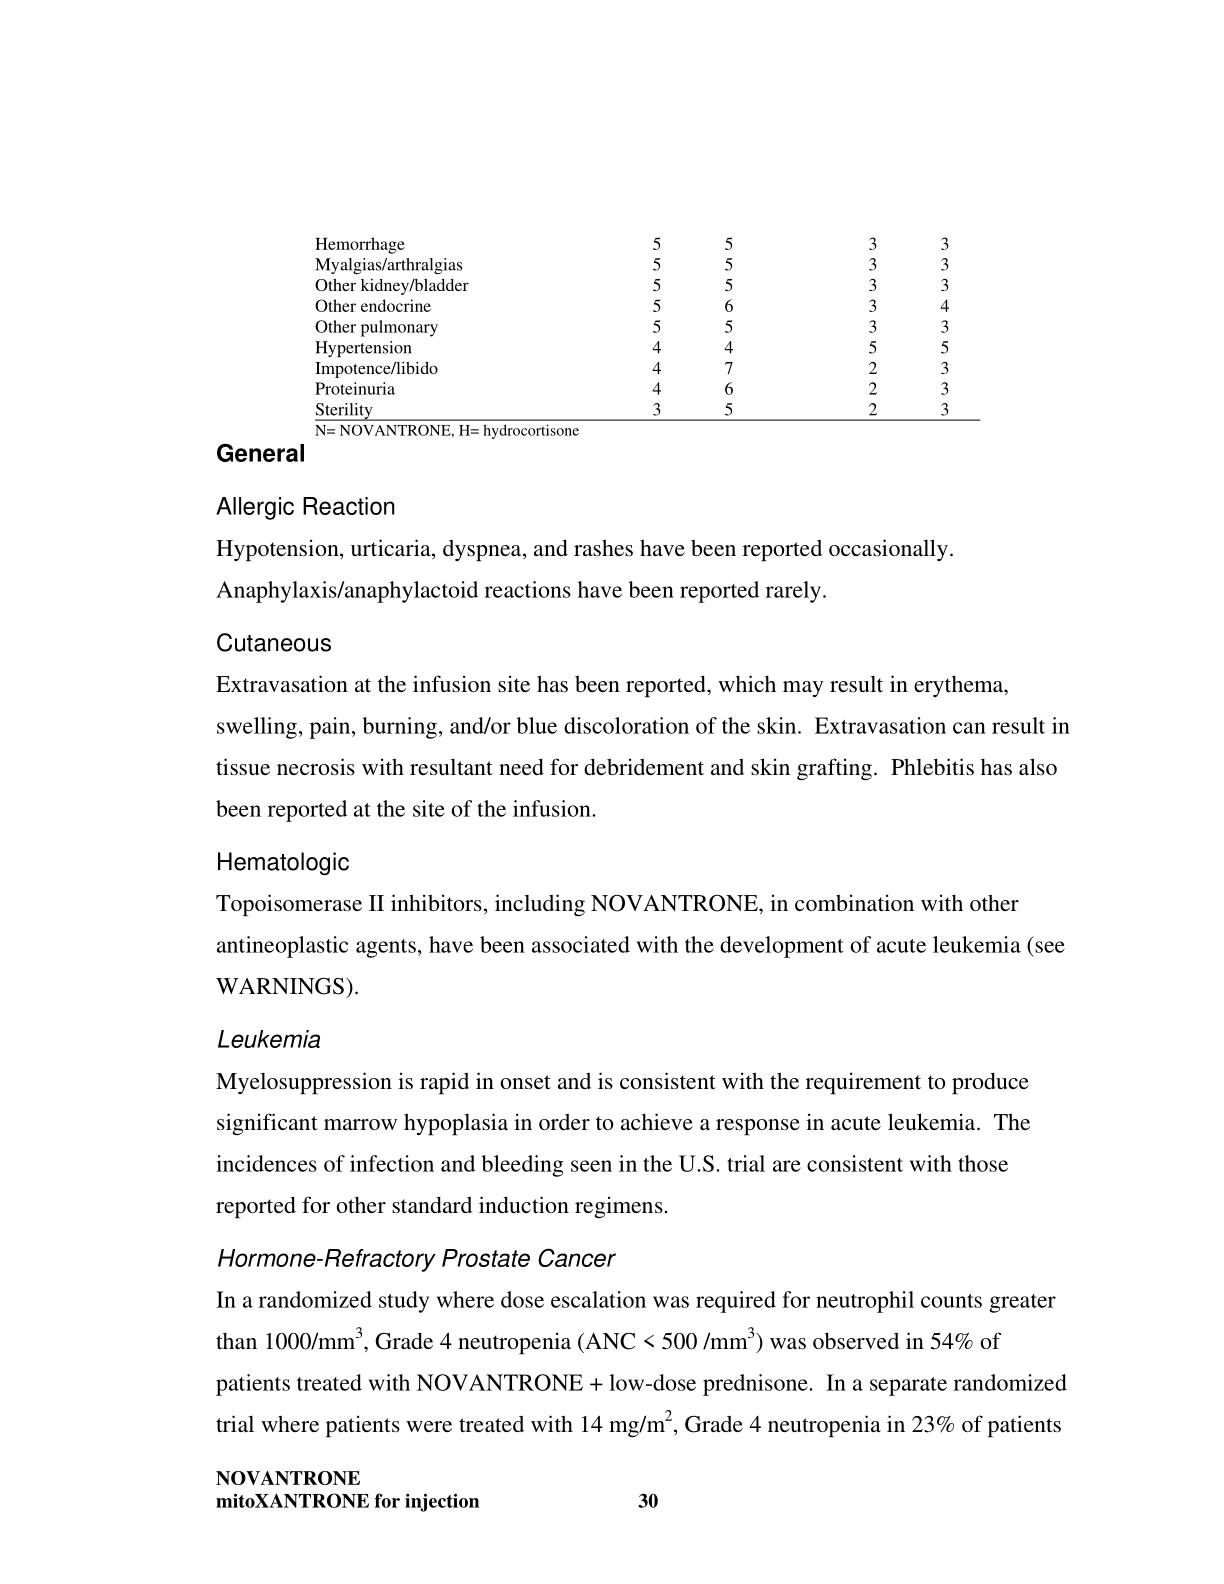nolines: (310, 231, 953, 419)
